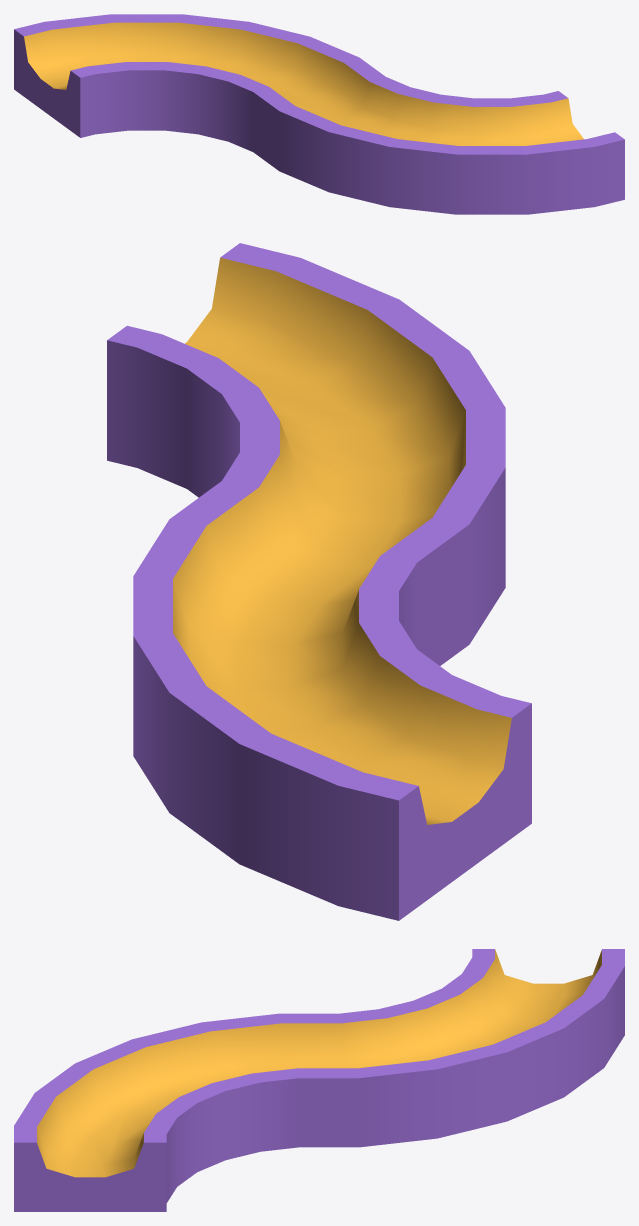
The model's file is s-curve-right-col.glb.
3 views of the same model, one above another, from view 1: azimuth 30°, elevation 25°; view 2: azimuth 150°, elevation 25°; view 3: azimuth 270°, elevation 25° (orthographic). The views are drawn at different scales.
Parts seen in each view (by area): view 1: s-curve-right-col; view 2: s-curve-right-col; view 3: s-curve-right-col.
Boxes of the visible parts, x1=… form: s-curve-right-col: x1=14, y1=14, x2=624, y2=214; s-curve-right-col: x1=107, y1=243, x2=531, y2=920; s-curve-right-col: x1=14, y1=949, x2=624, y2=1211.
Size of the model in its own units: 3 by 0.5 by 4.
Materials: 1 (1 with a texture image).
